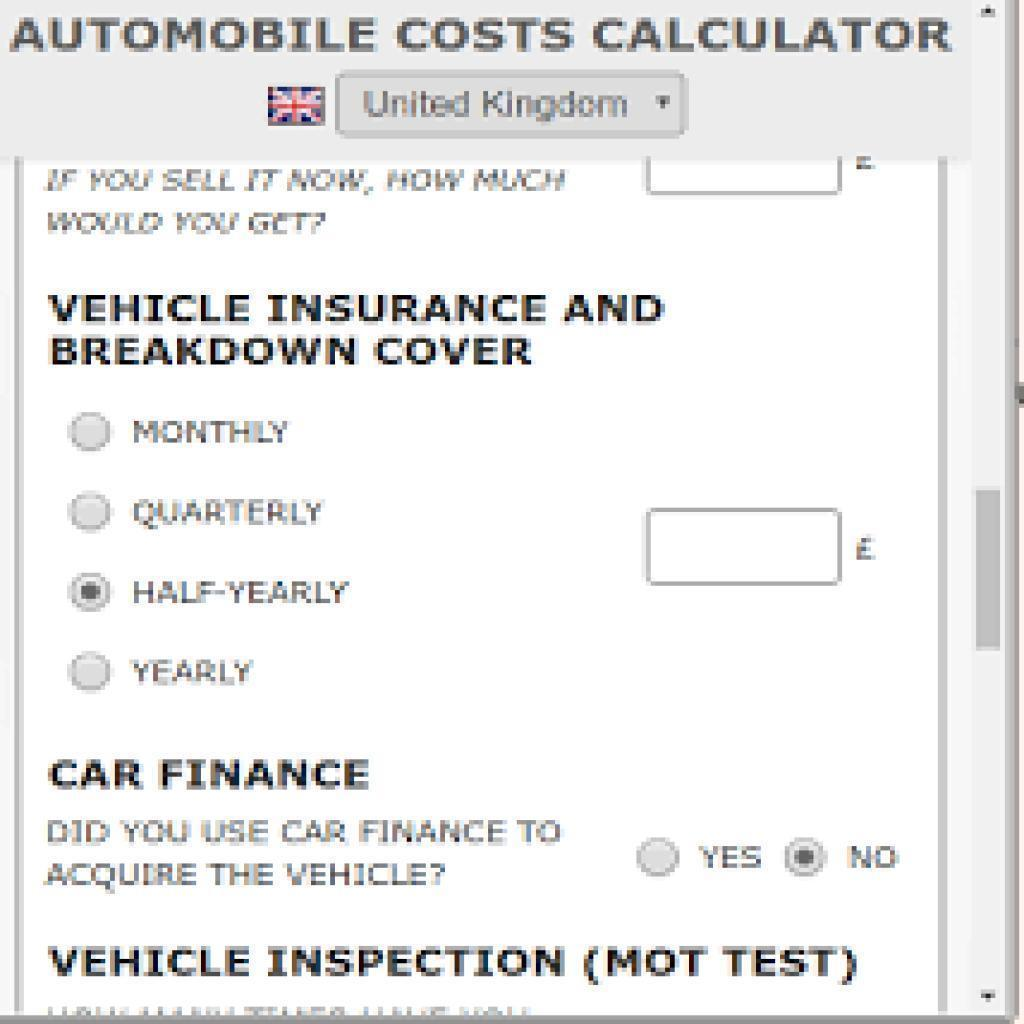dropdown: (334, 69, 688, 138)
input: (644, 509, 844, 589)
label: (47, 944, 862, 991), (47, 753, 372, 799), (131, 576, 359, 609), (129, 494, 326, 528), (129, 414, 294, 448), (126, 651, 253, 691), (697, 841, 768, 874), (846, 841, 901, 874)
radio: (64, 650, 116, 694), (66, 490, 114, 535), (636, 836, 684, 879), (781, 836, 830, 877), (68, 569, 112, 613), (68, 409, 112, 452)
